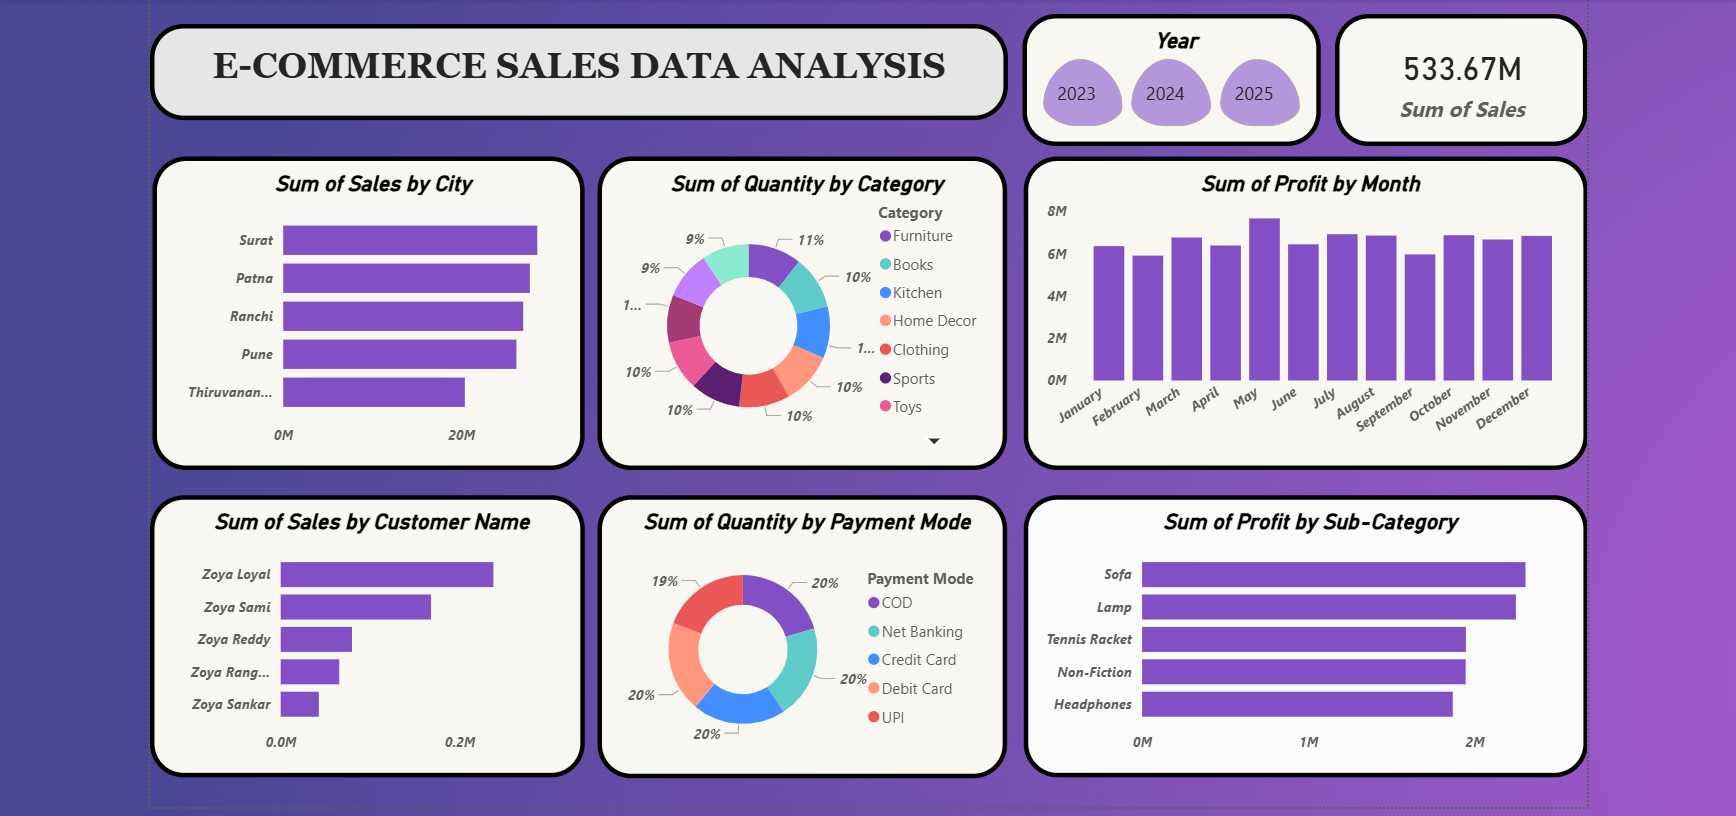

What the dashboard file says about the page in this screenshot:
{"tool":"powerbi","page":{"name":"Page 1","canvas":[1280,720],"ordinal":0},"visuals":[{"type":"columnChart","fields":{"Y":["Sum(Ecommerce_Sales_Data_2024_2025.Profit)"],"Category":["Ecommerce_Sales_Data_2024_2025.Order Date.Variation.Date Hierarchy.Month"]},"box":[777.9,140.7,502.3,279.1],"z":0},{"type":"barChart","fields":{"Category":["Ecommerce_Sales_Data_2024_2025.Sub-Category"],"Y":["Sum(Ecommerce_Sales_Data_2024_2025.Profit)"]},"box":[777.9,441.9,502.3,251.2],"z":1000},{"type":"donutChart","fields":{"Category":["Ecommerce_Sales_Data_2024_2025.Category"],"Y":["Sum(Ecommerce_Sales_Data_2024_2025.Quantity)"]},"box":[398.8,140.7,365.1,279.1],"z":2000},{"type":"donutChart","fields":{"Y":["Sum(Ecommerce_Sales_Data_2024_2025.Quantity)"],"Category":["Ecommerce_Sales_Data_2024_2025.Payment Mode"]},"box":[398.8,441.9,365.1,252.3],"z":3000},{"type":"textbox","box":[0,22.6,764.3,85.7],"z":4000},{"type":"barChart","fields":{"Y":["Sum(Ecommerce_Sales_Data_2024_2025.Sales)"],"Category":["Ecommerce_Sales_Data_2024_2025.City"]},"box":[2.3,140.7,384.9,279.1],"z":5000},{"type":"barChart","fields":{"Y":["Sum(Ecommerce_Sales_Data_2024_2025.Sales)"],"Category":["Ecommerce_Sales_Data_2024_2025.Customer Name"]},"box":[0,441.9,387.2,251.2],"z":6000},{"type":"card","fields":{"Values":["Sum(Ecommerce_Sales_Data_2024_2025.Sales)"]},"box":[1054.8,13.1,225,117.9],"z":7000},{"type":"advancedSlicerVisual","fields":{"Values":["Ecommerce_Sales_Data_2024_2025.Order Date.Variation.Date Hierarchy.Year"]},"box":[777.4,13.1,265.5,117.9],"z":8000}]}

Visuals, with their boxes in screenshot pixels (x1, y1, x2, y2):
columnChart - Sum(Ecommerce_Sales_Data_2024_2025.Profit) x Ecommerce_Sales_Data_2024_2025.Order Date.Variation.Date Hierarchy.Month: crop(1016, 152, 1576, 463)
barChart - Ecommerce_Sales_Data_2024_2025.Sub-Category x Sum(Ecommerce_Sales_Data_2024_2025.Profit): crop(1016, 488, 1576, 768)
donutChart - Ecommerce_Sales_Data_2024_2025.Category x Sum(Ecommerce_Sales_Data_2024_2025.Quantity): crop(594, 152, 1001, 463)
donutChart - Sum(Ecommerce_Sales_Data_2024_2025.Quantity) x Ecommerce_Sales_Data_2024_2025.Payment Mode: crop(594, 488, 1001, 769)
textbox: crop(149, 21, 1001, 116)
barChart - Sum(Ecommerce_Sales_Data_2024_2025.Sales) x Ecommerce_Sales_Data_2024_2025.City: crop(152, 152, 581, 463)
barChart - Sum(Ecommerce_Sales_Data_2024_2025.Sales) x Ecommerce_Sales_Data_2024_2025.Customer Name: crop(149, 488, 581, 768)
card - Sum(Ecommerce_Sales_Data_2024_2025.Sales): crop(1325, 10, 1576, 141)
advancedSlicerVisual - Ecommerce_Sales_Data_2024_2025.Order Date.Variation.Date Hierarchy.Year: crop(1016, 10, 1312, 141)
